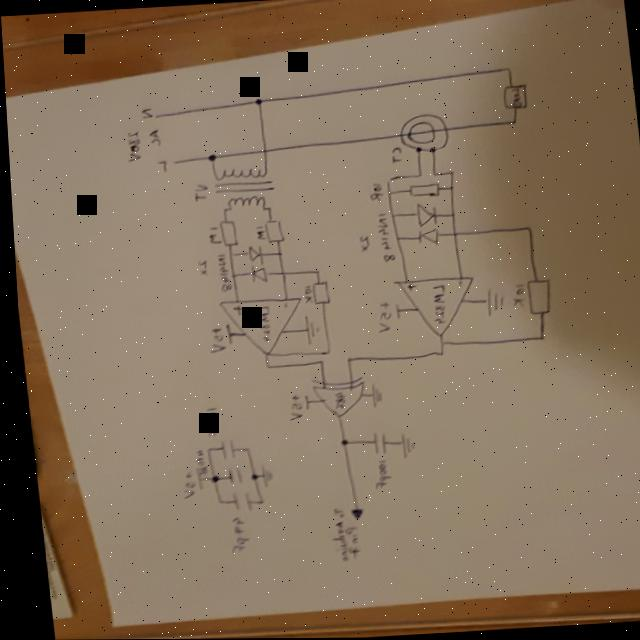capacitor: (222, 490, 246, 512), (362, 432, 382, 457), (210, 440, 230, 461), (218, 466, 238, 486)
crossover: (258, 148, 265, 154)
diode: (411, 202, 437, 229), (410, 227, 439, 248), (240, 244, 262, 267), (241, 265, 264, 284)
ground: (478, 288, 502, 317), (298, 315, 317, 345), (392, 432, 412, 459), (363, 382, 379, 408), (252, 465, 266, 488)
inductor: (394, 111, 450, 156)
junction: (241, 472, 253, 483), (332, 438, 343, 447), (251, 98, 261, 107), (203, 474, 213, 483), (382, 177, 392, 184), (205, 154, 213, 161), (532, 335, 541, 341), (502, 67, 511, 73), (507, 120, 516, 126), (411, 173, 420, 179), (249, 499, 258, 505), (446, 231, 455, 237), (271, 251, 279, 257), (444, 185, 452, 191), (445, 212, 453, 218), (520, 226, 528, 232), (427, 172, 435, 178), (444, 170, 452, 176), (431, 351, 439, 357), (339, 357, 347, 363), (237, 447, 245, 453), (274, 271, 282, 277), (259, 364, 266, 370), (209, 499, 216, 505), (199, 447, 206, 453), (312, 359, 319, 364), (310, 270, 316, 275), (319, 350, 325, 355), (413, 148, 419, 152), (428, 148, 432, 154), (382, 192, 388, 196), (225, 253, 229, 258), (435, 342, 440, 346), (218, 209, 222, 213), (262, 207, 266, 211), (226, 274, 230, 278), (387, 215, 391, 219), (391, 237, 395, 241)
resistor: (518, 277, 550, 317), (497, 84, 526, 112), (258, 217, 282, 245), (213, 219, 236, 248), (403, 183, 438, 200), (304, 280, 326, 307)
source: (186, 468, 197, 491), (386, 302, 398, 321), (219, 323, 229, 345), (297, 396, 306, 411)
terminal: (342, 507, 359, 522), (168, 160, 175, 166), (151, 112, 158, 118)
text: (319, 506, 343, 563), (371, 211, 390, 262), (208, 253, 230, 294), (221, 516, 243, 553), (425, 284, 444, 325), (336, 523, 356, 561), (364, 458, 386, 490), (368, 301, 389, 334), (196, 405, 216, 438), (252, 305, 269, 342), (121, 130, 140, 163), (172, 470, 192, 501), (184, 447, 203, 478), (202, 326, 222, 355), (504, 283, 523, 312), (280, 394, 298, 421), (187, 183, 207, 202), (296, 284, 312, 305), (201, 226, 218, 245), (144, 129, 160, 148), (506, 89, 520, 110), (365, 184, 381, 202), (325, 392, 341, 410), (385, 147, 401, 164), (353, 235, 367, 253), (151, 158, 166, 173), (192, 259, 205, 276), (249, 225, 262, 242), (225, 305, 243, 316), (137, 107, 152, 119), (400, 283, 413, 293), (276, 301, 284, 309), (451, 280, 457, 286)
transformer: (207, 166, 272, 211)
